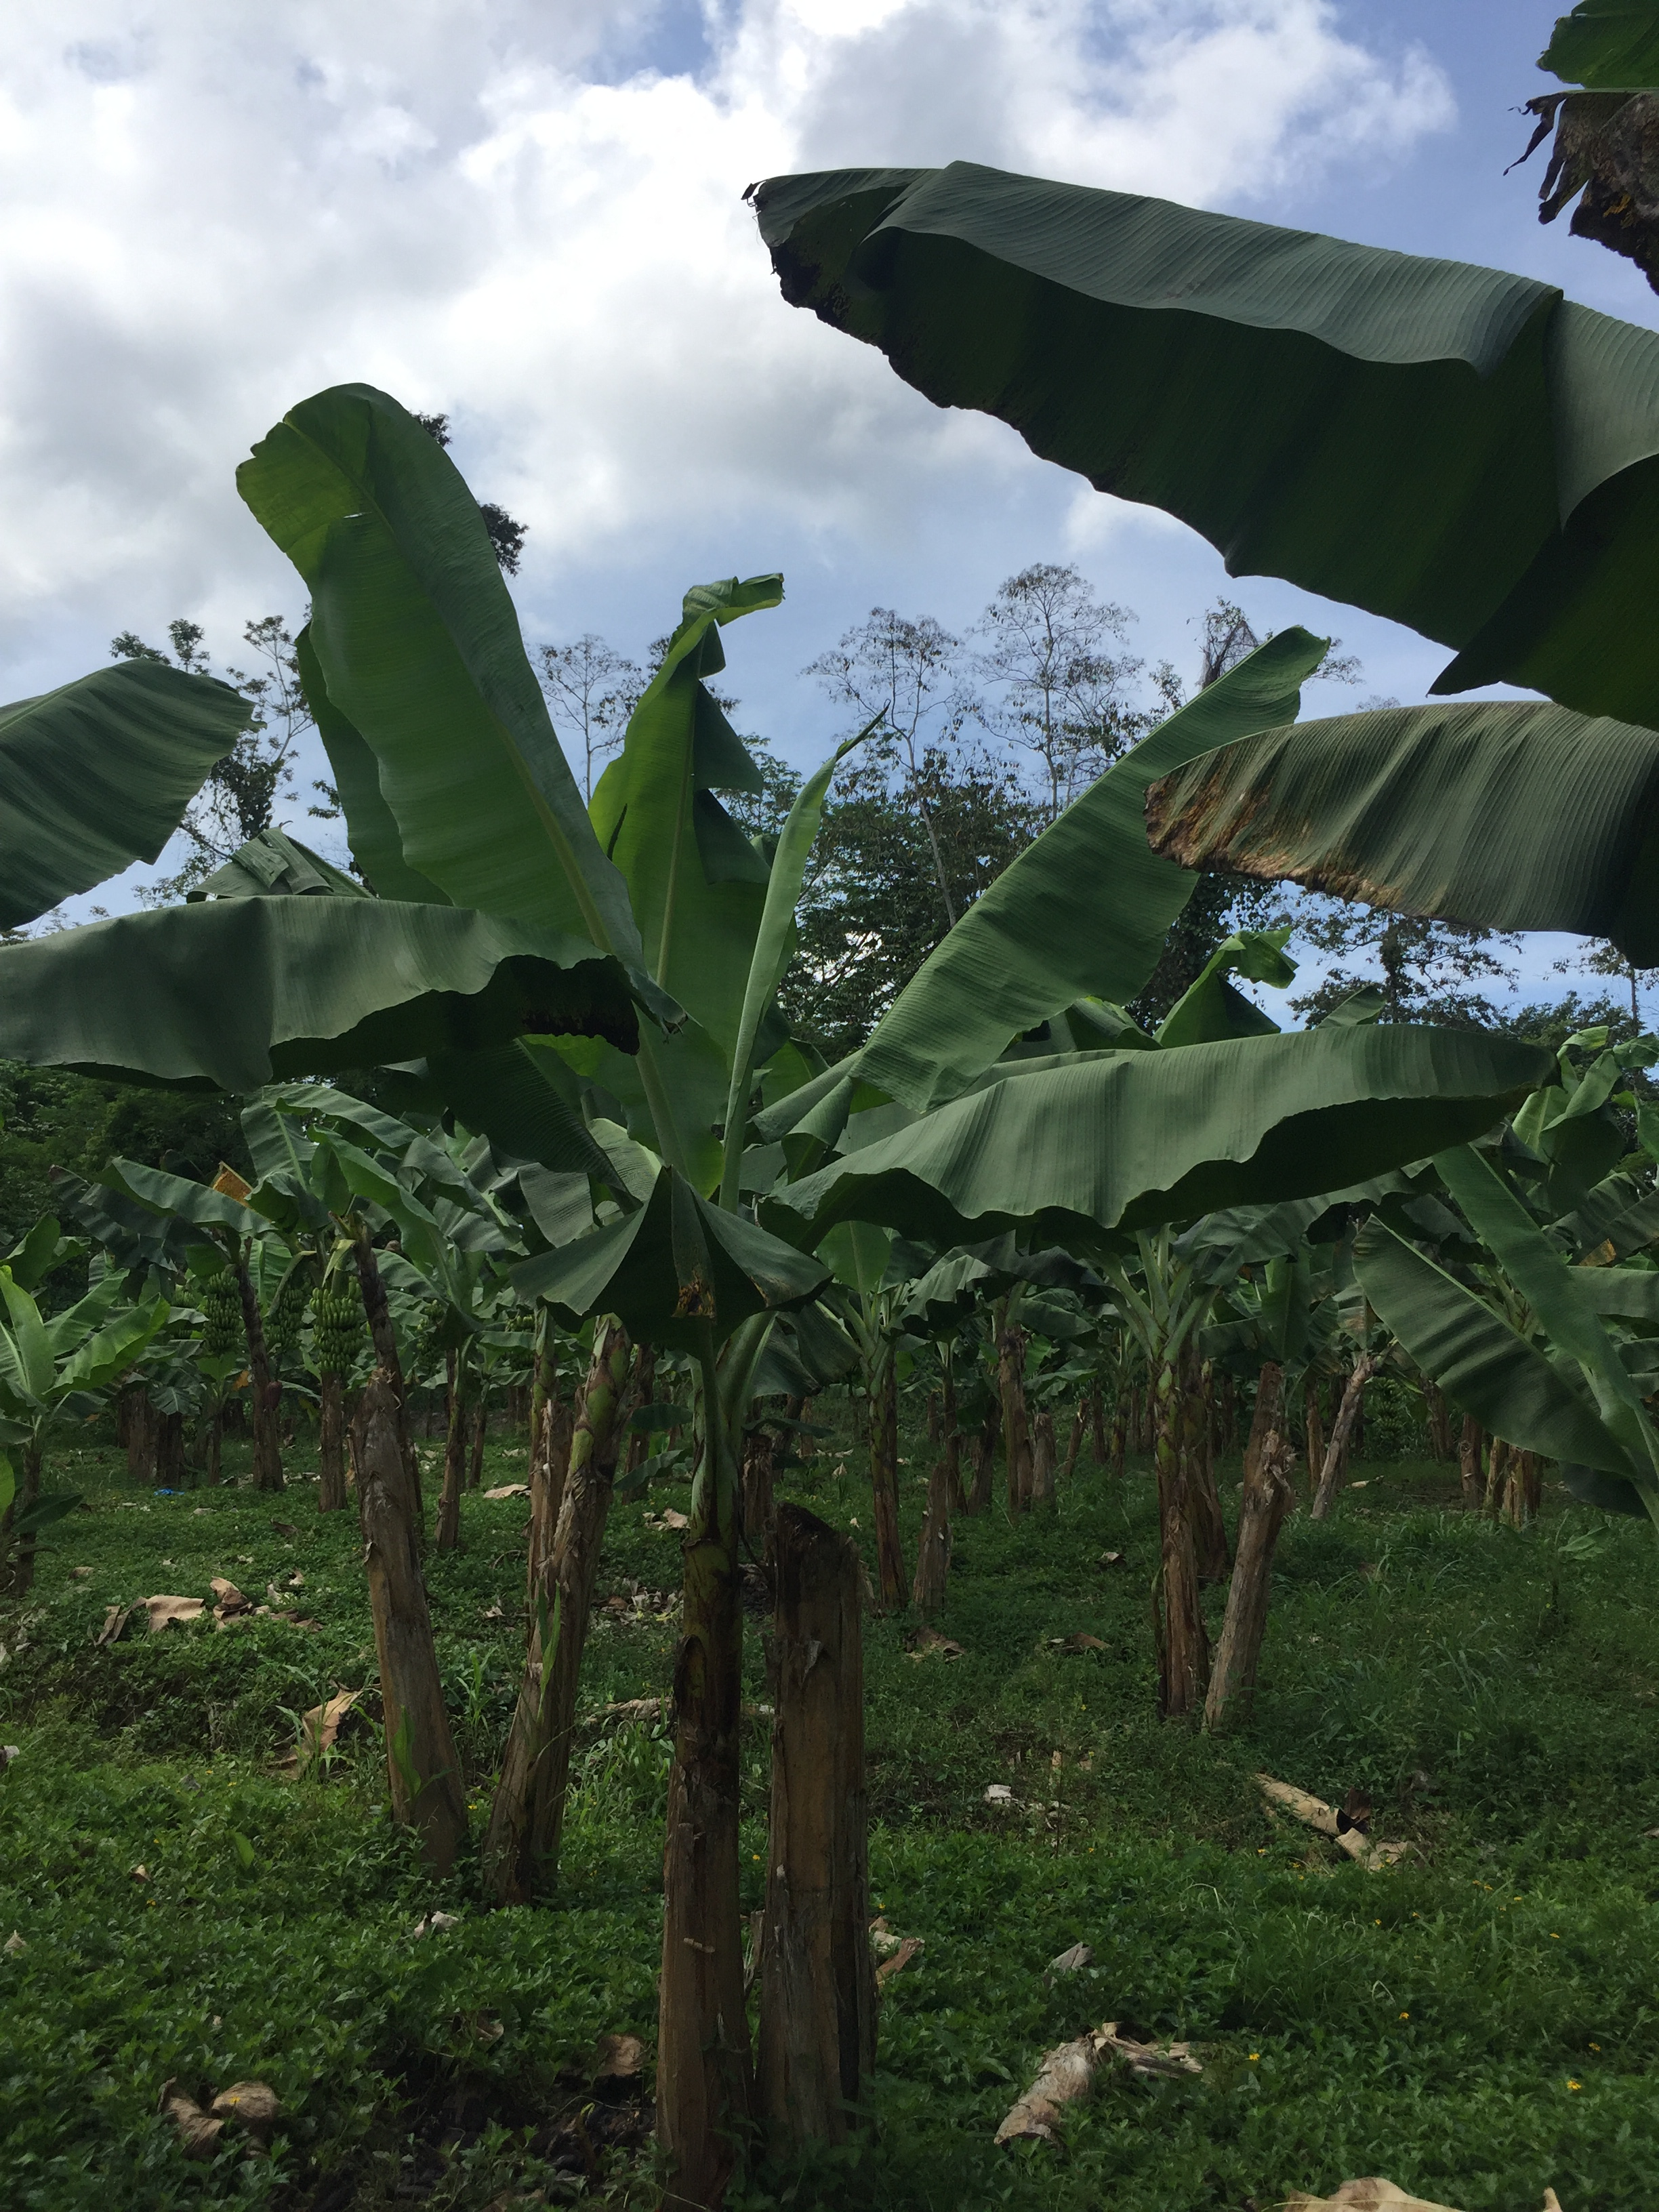candleleafs: (723, 698, 890, 1204)
